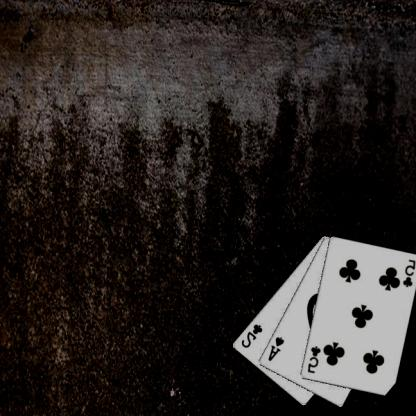2C: (240, 322, 265, 349)
5C: (306, 344, 324, 375), (402, 257, 416, 289)
AS: (267, 334, 287, 362)
